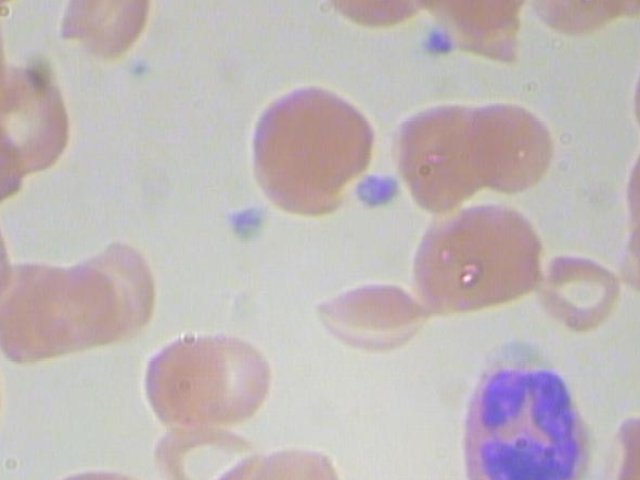Platelets: (449, 355, 606, 480), (353, 167, 408, 217), (220, 199, 277, 245), (416, 25, 459, 59)
RBC: (243, 77, 383, 218), (409, 196, 548, 327), (388, 99, 498, 216), (59, 237, 157, 356), (307, 266, 433, 353), (454, 95, 561, 196), (184, 322, 281, 432), (130, 328, 227, 437), (535, 247, 630, 339), (55, 0, 152, 66)
